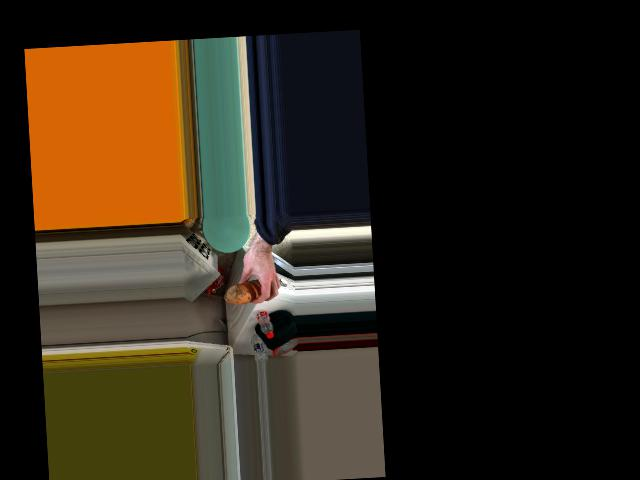sweet_potato: (232, 273, 265, 306)
